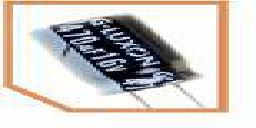Electrolytic Capacitor: (28, 9, 212, 109)
